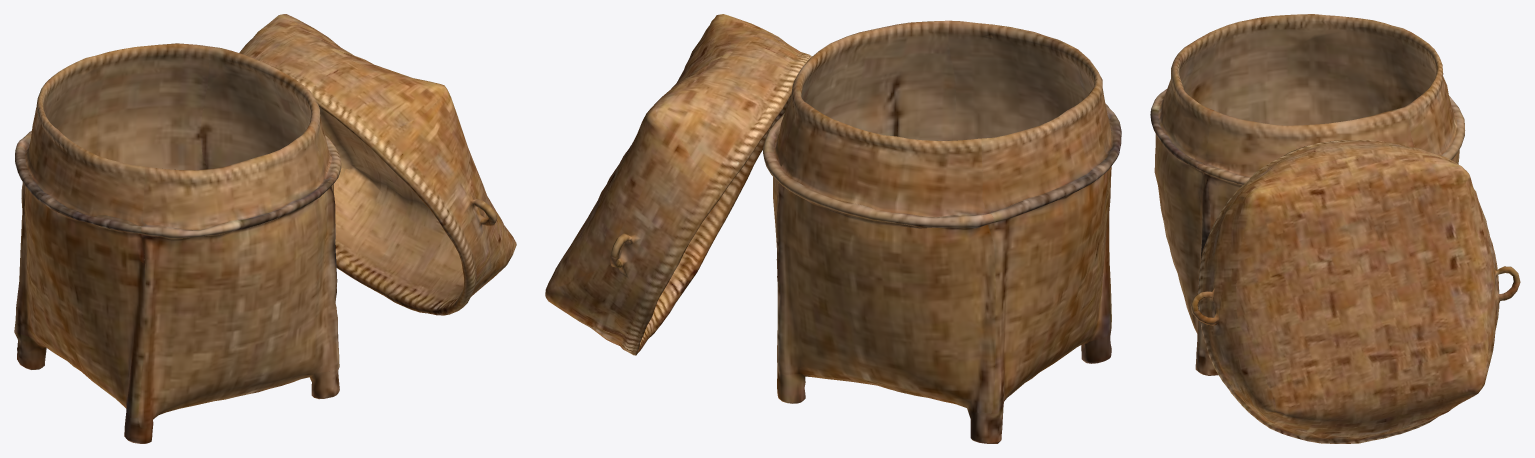
Rendered from basket-lid.glb.
3 views of the same model, side by side, from view 1: azimuth 30°, elevation 25°; view 2: azimuth 150°, elevation 25°; view 3: azimuth 270°, elevation 25° (orthographic). The views are drawn at different scales.
Parts seen in each view (by area): view 1: wicker_basket_02_base, wicker_basket_02_lid; view 2: wicker_basket_02_base, wicker_basket_02_lid; view 3: wicker_basket_02_lid, wicker_basket_02_base.
Part boxes in pixels (box(x1,y1,x2,y2)): wicker_basket_02_base: box(14, 43, 341, 443); wicker_basket_02_lid: box(239, 14, 516, 315); wicker_basket_02_base: box(763, 20, 1121, 443); wicker_basket_02_lid: box(545, 14, 811, 355); wicker_basket_02_lid: box(1190, 140, 1520, 443); wicker_basket_02_base: box(1150, 14, 1465, 375).
Bounding box in the file's own units: 0.3469 × 0.2005 × 0.2545.
Materials: 1 (1 with a texture image).
